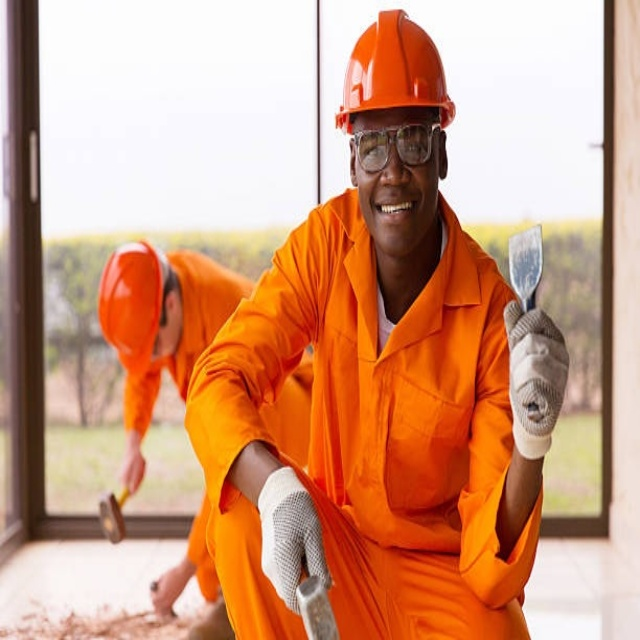Gafas: (348, 119, 441, 177)
Guantes: (257, 465, 332, 620), (503, 299, 569, 459)
Sin_guantes: (151, 559, 193, 620), (119, 444, 147, 496)
Sin_mascara: (370, 188, 420, 232)
